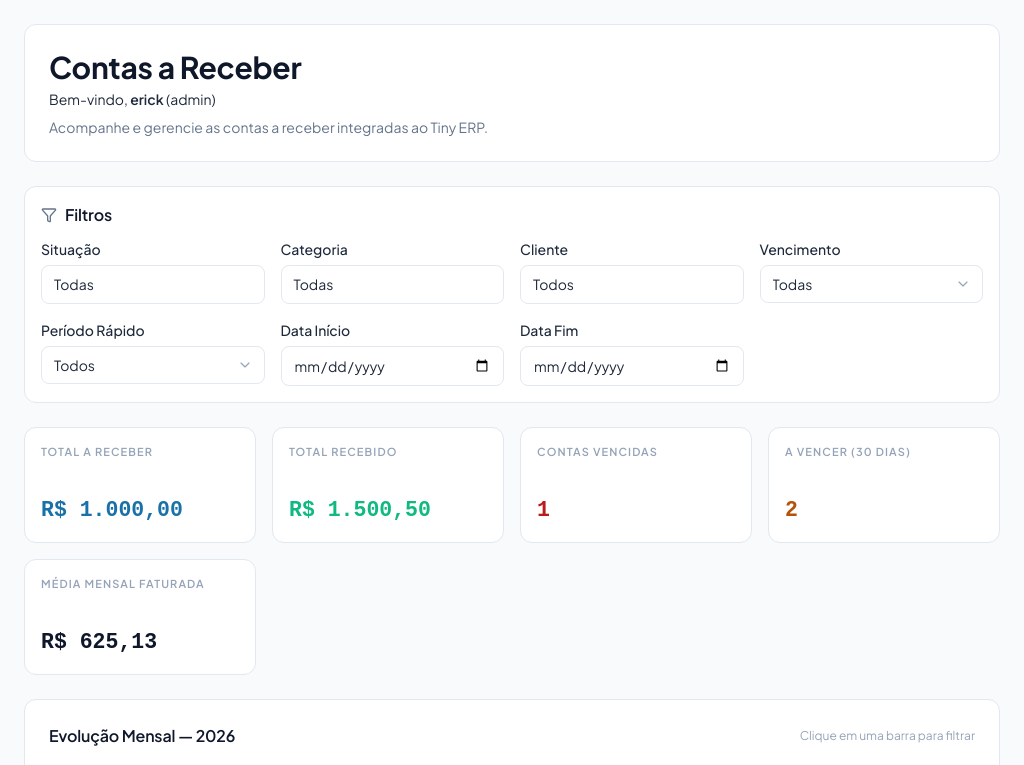
Test: Contas a Receber — KPIs › os KPIs seguem os filtros
Click the 1st button "Todas" at (153, 284), box [41,265,264,304]
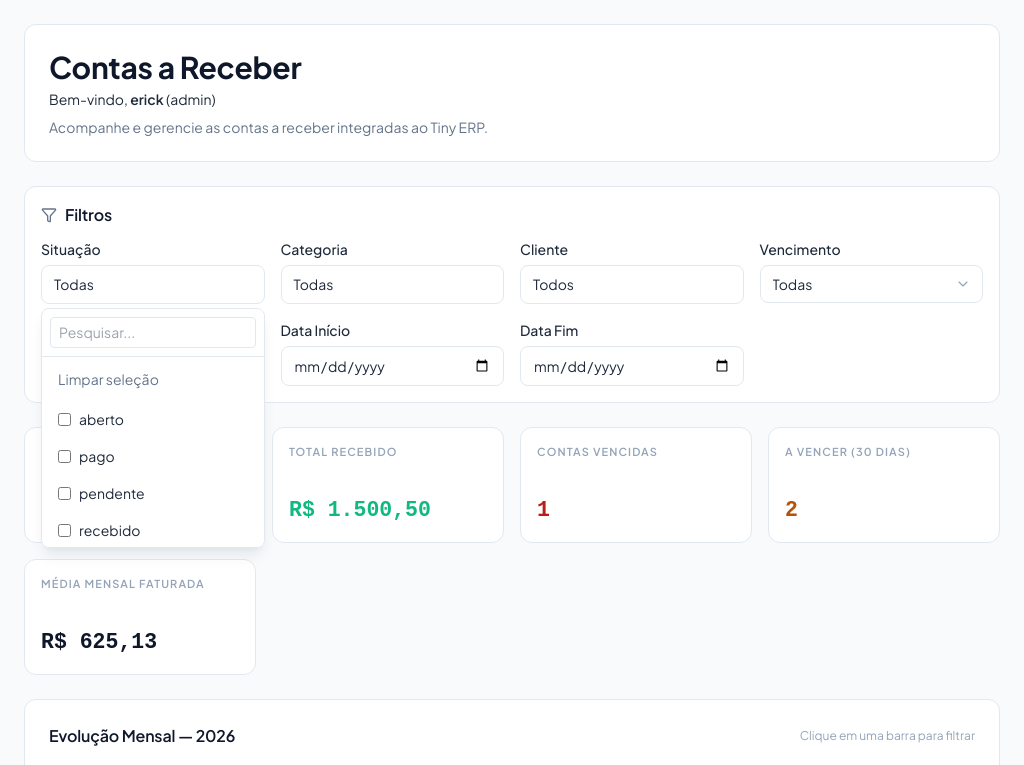
Click the checkbox labelled "pendente" at (64, 494), box [58,487,71,500]
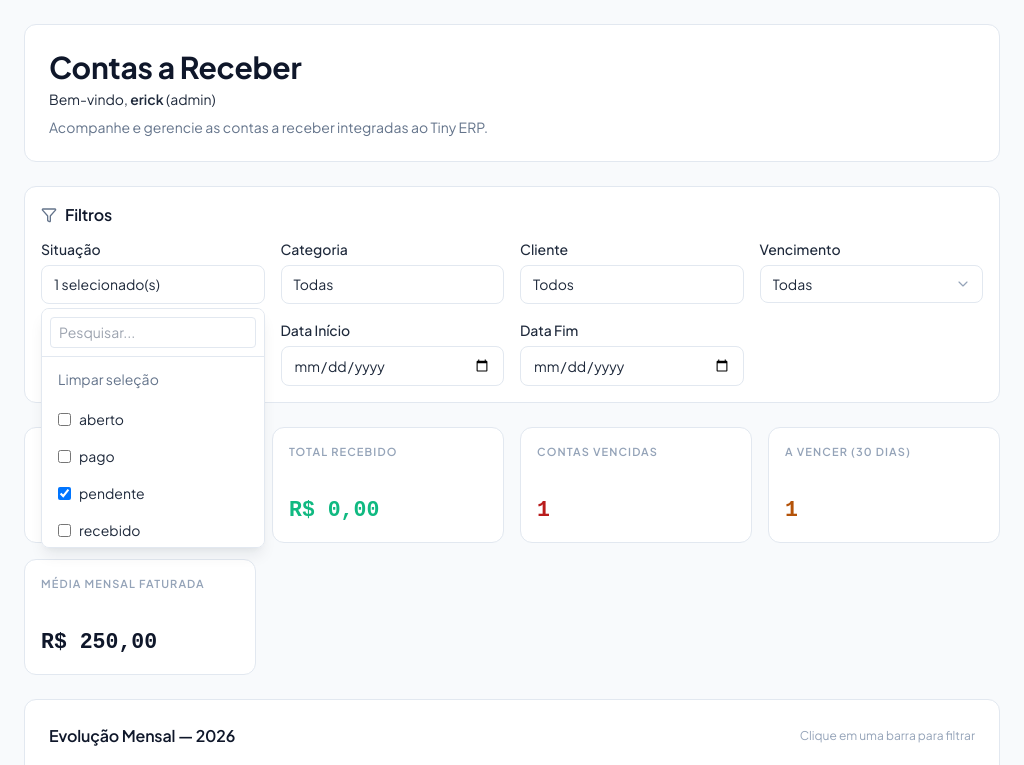
Expected: the text "R$ 500,00" is shown, [41,498,157,522]
Expected: the text "R$ 0,00" is shown, [289,498,379,522]
Expected: the text "R$ 250,00" is shown, [41,630,157,654]
